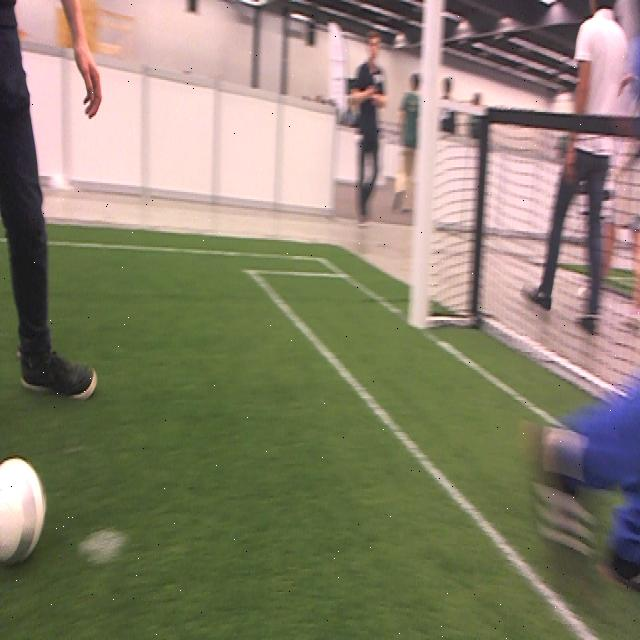ball: (0, 450, 44, 565)
goalpost: (405, 3, 447, 329)
